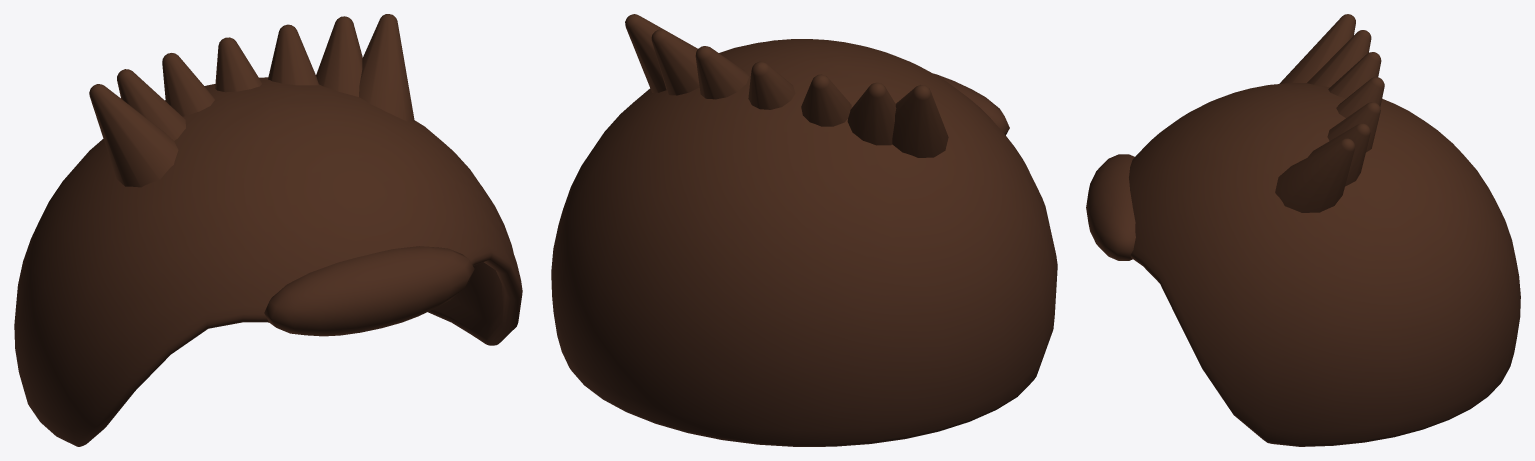
The model's file is hair_spiky.glb.
3 renders of one model, left to right at view 1: azimuth 30°, elevation 25°; view 2: azimuth 150°, elevation 25°; view 3: azimuth 270°, elevation 25°, orthographic. The views are drawn at different scales.
Parts seen in each view (by area): view 1: Hair; view 2: Hair; view 3: Hair.
Boxes of the visible parts, x1,y1,x2,y2 form: Hair: (14, 14, 522, 446); Hair: (551, 14, 1057, 446); Hair: (1086, 14, 1520, 446).
Size of the model in its own units: 2.16 by 1.47 by 2.07.
